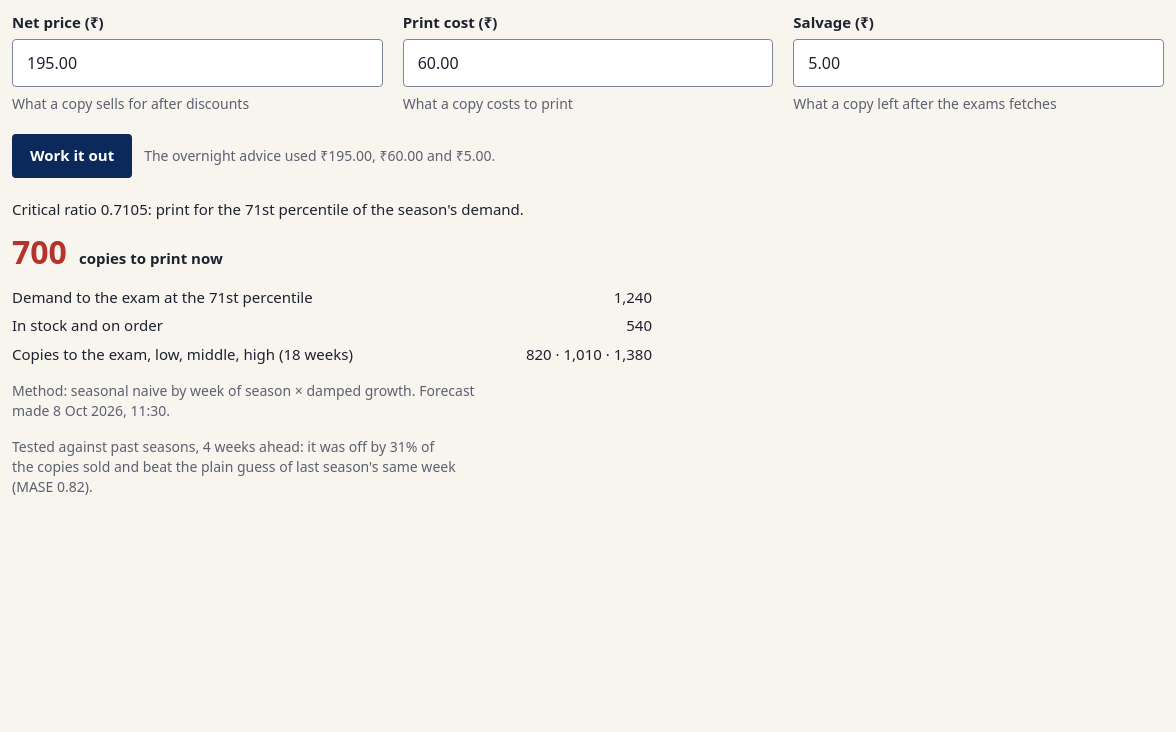
Test case: the print run › is worked out again with what was typed, and nothing is sent for an input that is not rupees
The width and height of the screenshot is (1176, 732).
Replace the text in the field labelled "Print cost (₹)" with "60,5x" at (588, 63), box [403,39,773,87]
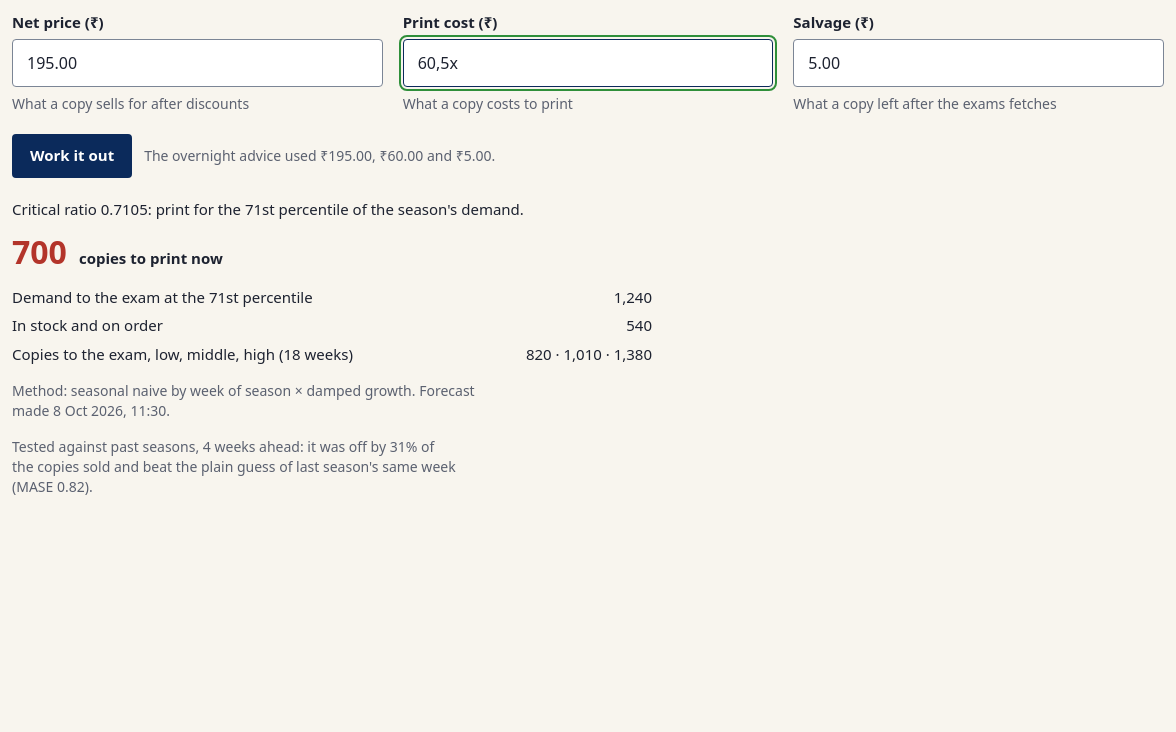
Click the button "Work it out" at (72, 156), box [12,134,132,178]
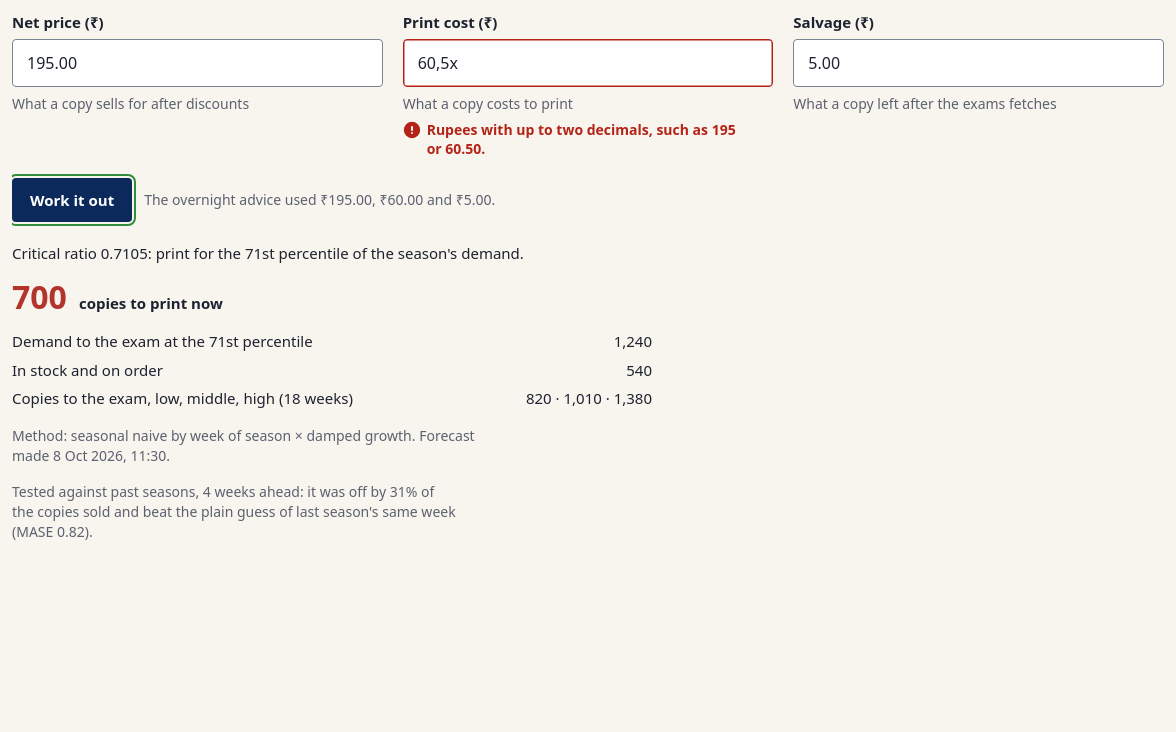
Expected: the text "Rupees with up to two decimals, such as 195 or 60.50." is shown, [427,120,773,158]
Replace the text in the field labelled "Print cost (₹)" with "80.50" at (588, 63), box [403,39,773,87]
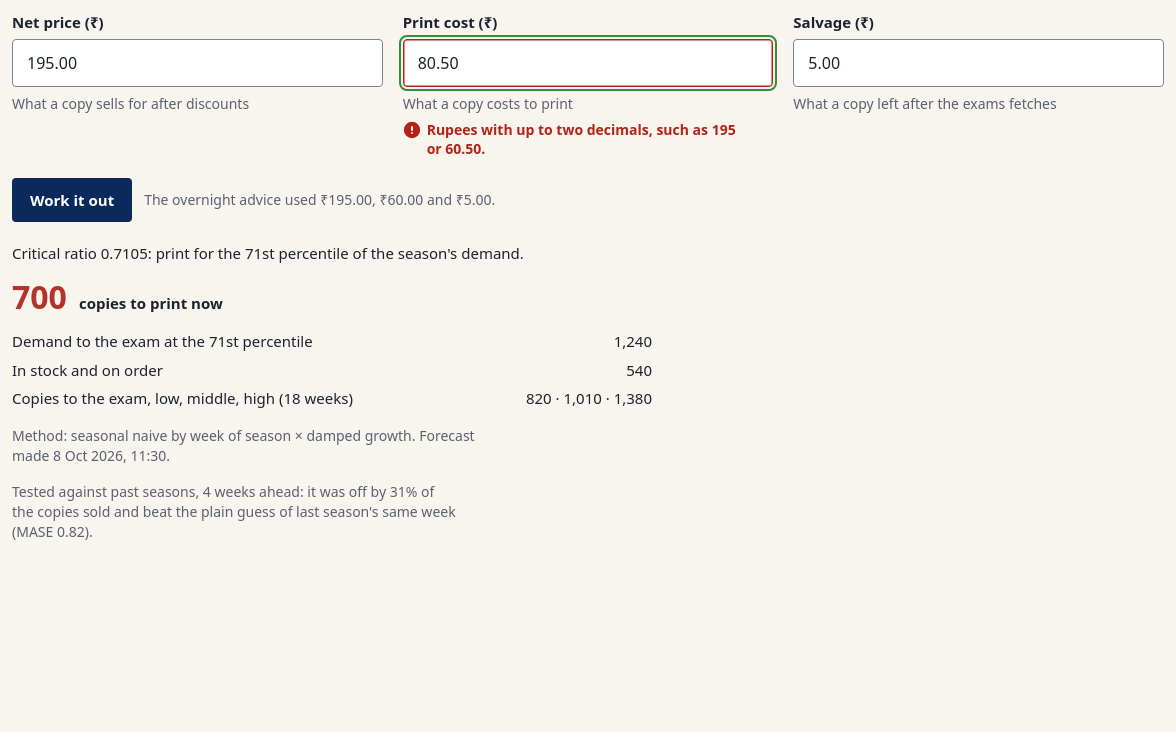
Click the button "Work it out" at (72, 200), box [12,178,132,222]
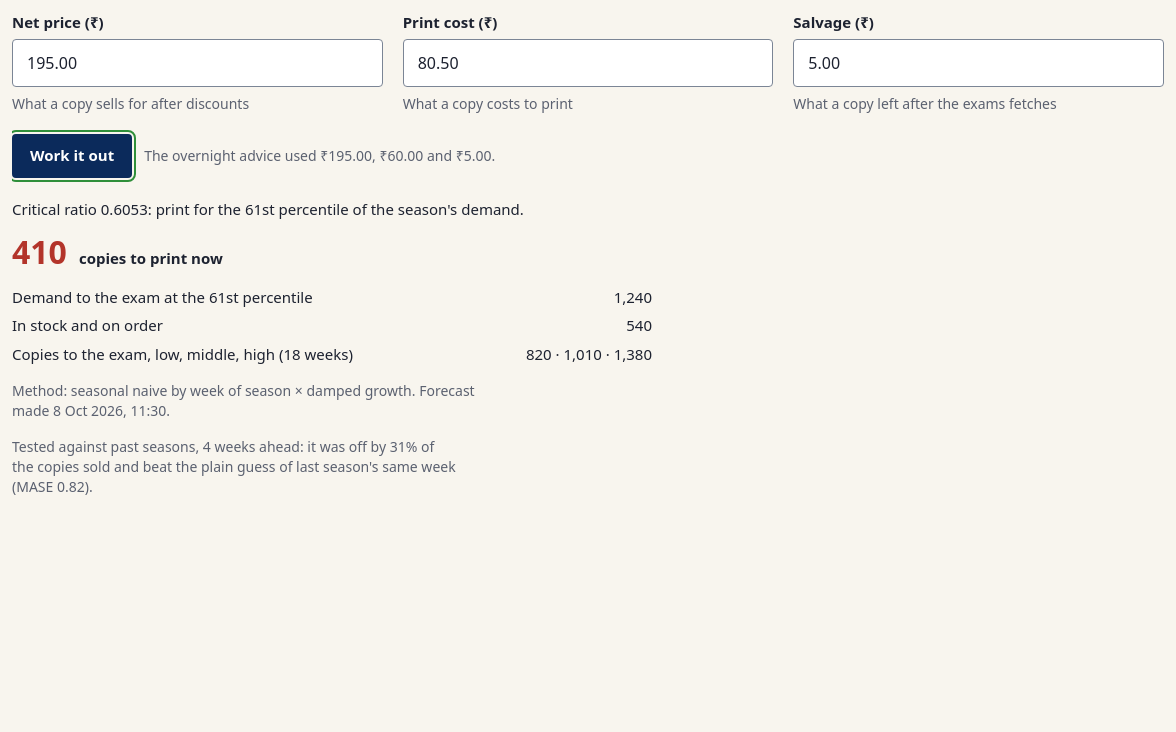
Expected: the text "Critical ratio 0.6053: print for the 61st percentile of the season's demand." is shown, [12,199,524,219]
